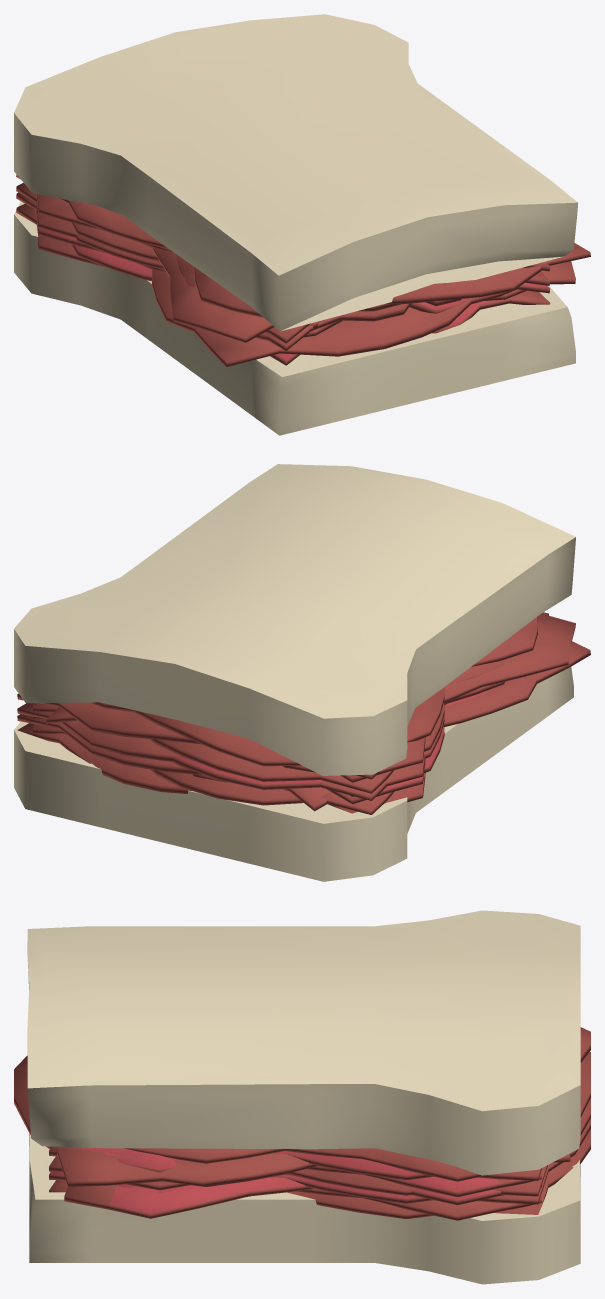
Rendered from Pastrami.gltf.
3 views of the same model, one above another, from view 1: azimuth 30°, elevation 25°; view 2: azimuth 150°, elevation 25°; view 3: azimuth 270°, elevation 25° (orthographic). The views are drawn at different scales.
Parts seen in each view (by area): view 1: node-0; view 2: node-0; view 3: node-0.
Part boxes in pixels (bbox=[...]): node-0: bbox=[14, 14, 590, 435]; node-0: bbox=[14, 464, 590, 881]; node-0: bbox=[14, 910, 590, 1284].
Size of the model in its own units: 7.19 by 3.16 by 8.32.
